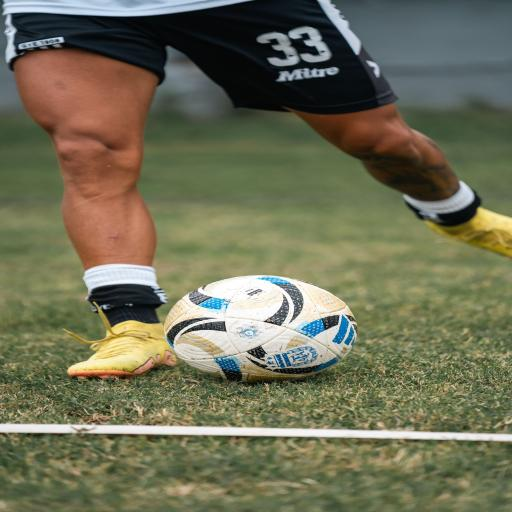shoe: (65, 309, 177, 378), (427, 208, 511, 258)
